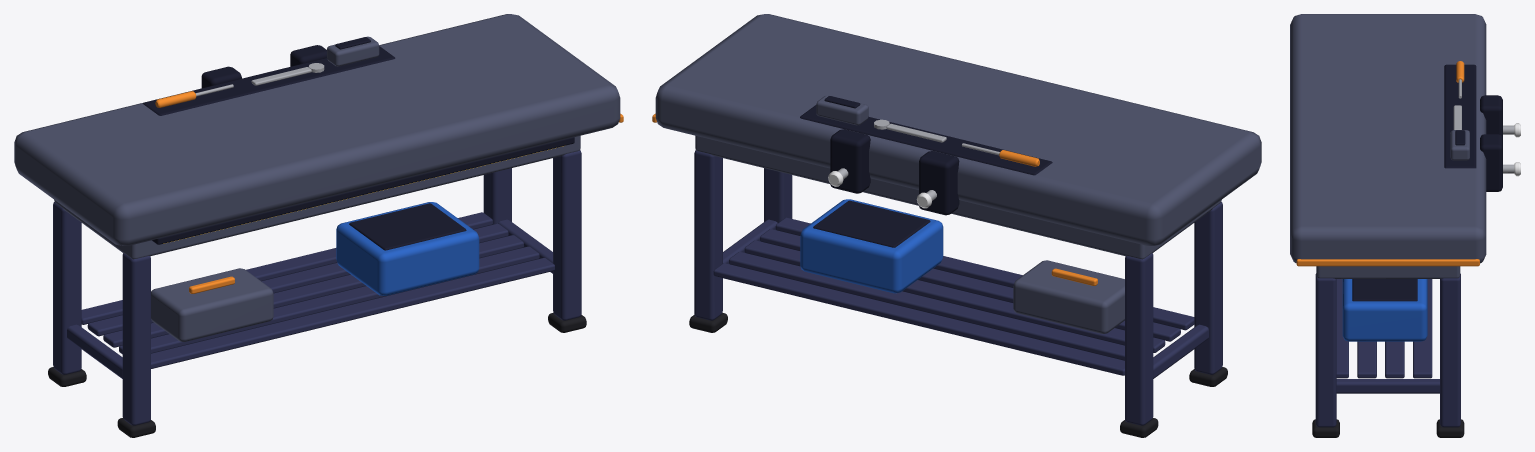
Rendered from prop.props_workrooms.workbench.glb.
3 renders of one model, left to right at view 1: azimuth 30°, elevation 25°; view 2: azimuth 150°, elevation 25°; view 3: azimuth 270°, elevation 25°, orthographic. The views are drawn at different scales.
Parts seen in each view (by area): view 1: prop.props_workrooms.workbench; view 2: prop.props_workrooms.workbench; view 3: prop.props_workrooms.workbench.
Part boxes in pixels (x1=…): prop.props_workrooms.workbench: x1=14, y1=14, x2=623, y2=437; prop.props_workrooms.workbench: x1=652, y1=14, x2=1261, y2=437; prop.props_workrooms.workbench: x1=1290, y1=14, x2=1520, y2=437.
Bounding box in the file's own units: 1.61 × 0.796 × 0.705.
